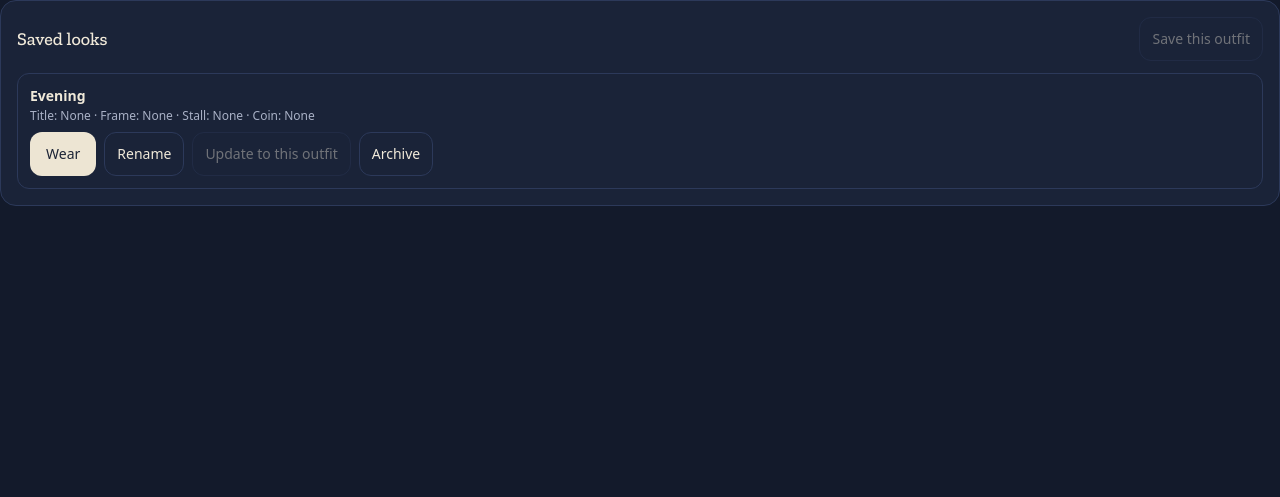
Test: saved look panel › retains rename edits after a version conflict
The image size is (1280, 497).
Expected: the element "Evening" is shown, left=17, top=73, right=1263, bottom=189
Click the button "Rename" at (144, 154), box left=104, top=132, right=184, bottom=176
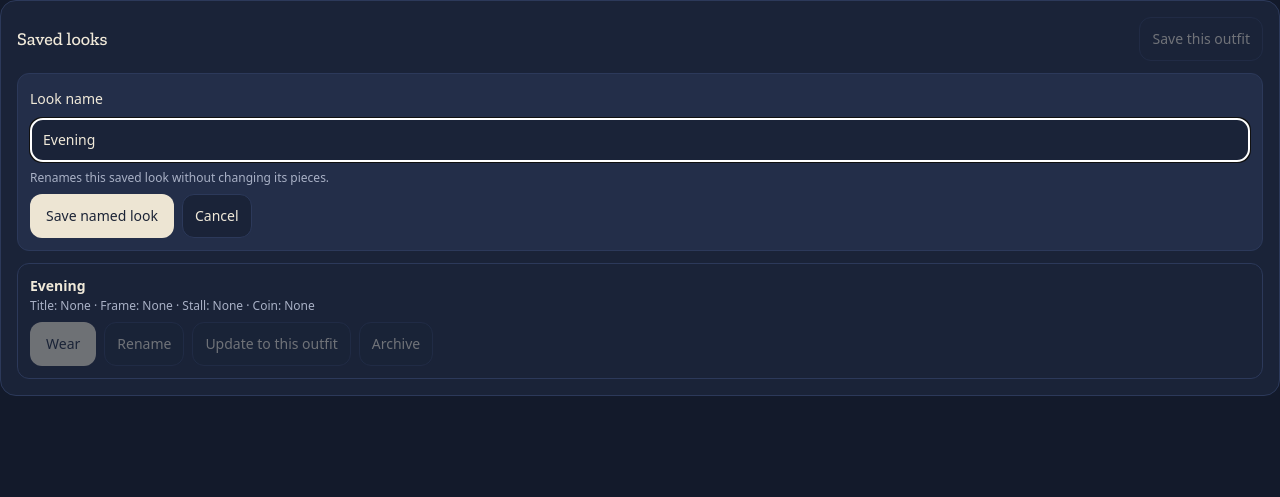
Replace the text in the field labelled "Look name" with "Keep my edit" at (640, 140), box left=30, top=118, right=1250, bottom=162
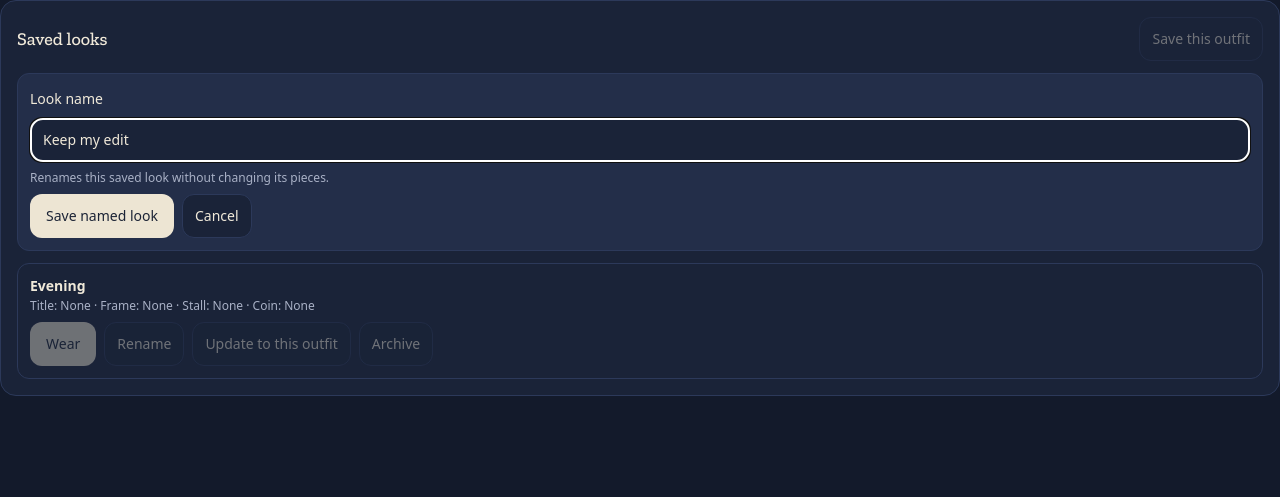
Click the button "Save named look" at (102, 216), box left=30, top=194, right=174, bottom=238
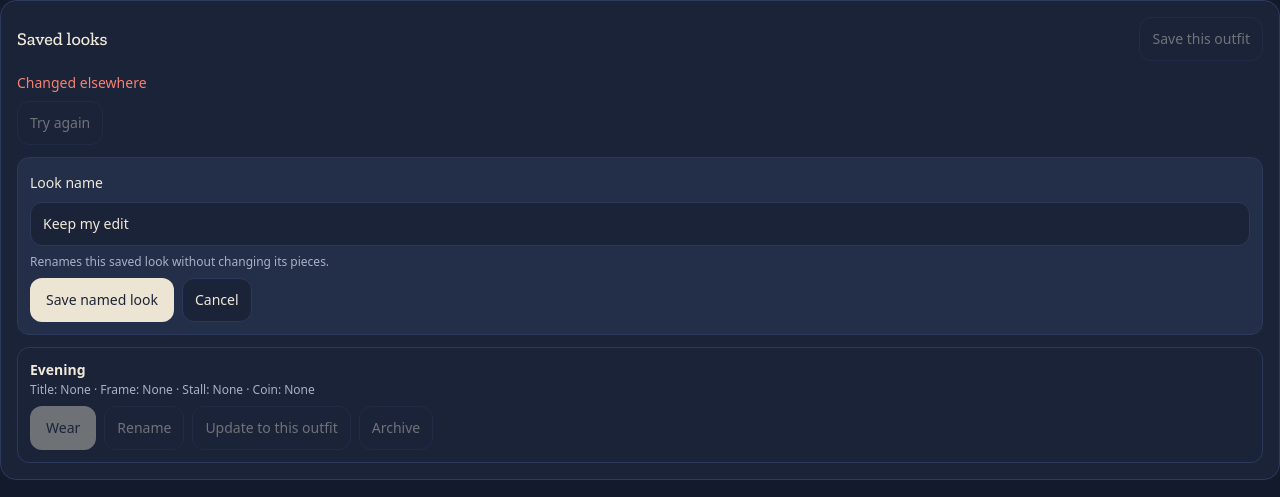
Result: the message "Changed elsewhere" is shown at left=17, top=73, right=146, bottom=92
